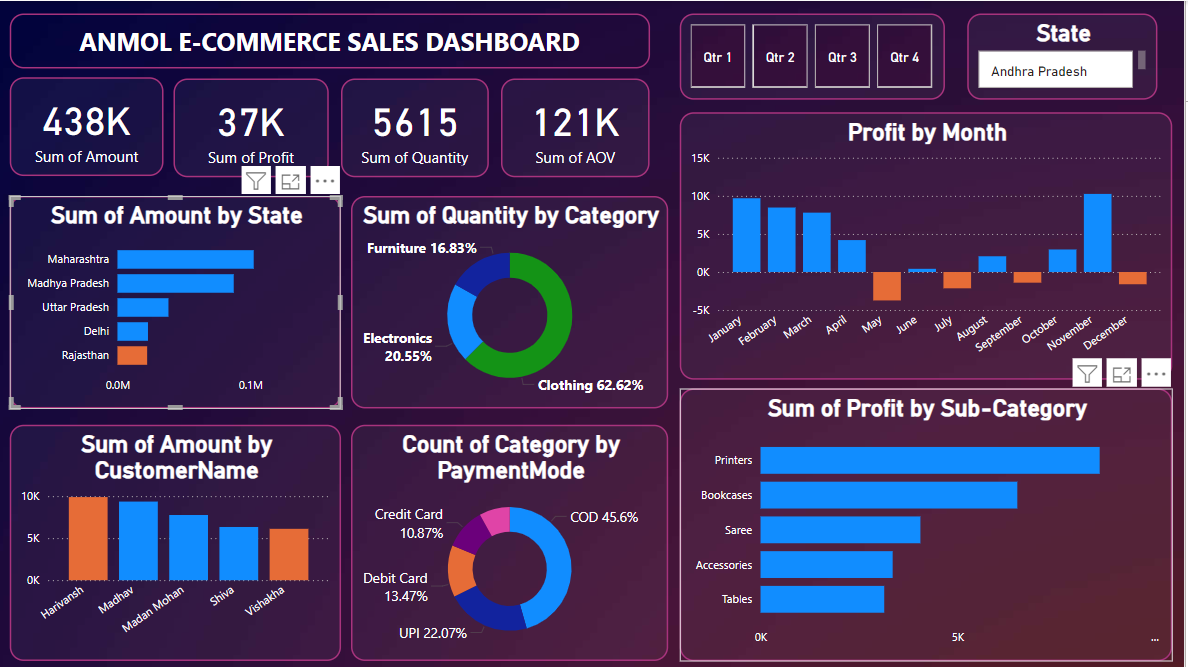

What the dashboard file says about the page in this screenshot:
{"tool":"powerbi","page":{"name":"Page 1","canvas":[1280,720],"ordinal":0},"visuals":[{"type":"columnChart","title":"Profit by Month","fields":{"Category":["Orders.Order Date.Variation.Date Hierarchy.Month"],"Y":["Details.Profit"]},"box":[736.4,119.8,530.4,288.1],"z":0},{"type":"textbox","box":[14.8,13.5,689.3,59.2],"z":1000},{"type":"barChart","fields":{"Y":["Details.Profit"],"Category":["Details.Sub-Category"]},"box":[736.4,417.3,530.4,293.5],"z":2000},{"type":"donutChart","fields":{"Category":["Details.Category"],"Y":["Details.Quantity"]},"box":[382.3,210,341.9,228.9],"z":3000},{"type":"donutChart","fields":{"Category":["Details.PaymentMode"],"Y":["Details.Category"]},"box":[382.3,456.4,341.9,254.4],"z":4000},{"type":"card","fields":{"Values":["Details.Amount"]},"box":[14.8,82.1,165.6,106.4],"z":5000},{"type":"card","fields":{"Values":["Details.Profit"]},"box":[191.2,83.5,166.9,106.4],"z":6000},{"type":"card","fields":{"Values":["Details.Quantity"]},"box":[371.6,83.5,158.9,106.4],"z":7000},{"type":"card","fields":{"Values":["Details.AOV"]},"box":[543.9,83.5,160.2,106.4],"z":8000},{"type":"barChart","fields":{"Category":["Orders.State"],"Y":["Details.Amount"]},"box":[14.8,210,356.8,228.9],"z":9000},{"type":"columnChart","fields":{"Y":["Details.Amount"],"Category":["Orders.CustomerName"]},"box":[14.8,456.4,356.8,254.4],"z":10000},{"type":"advancedSlicerVisual","fields":{"Values":["Orders.Order Date.Variation.Date Hierarchy.Quarter"]},"box":[736.4,13.5,285.4,92.9],"z":11000},{"type":"advancedSlicerVisual","fields":{"Values":["Orders.State"]},"box":[1046,13.5,204.6,92.9],"z":12000}]}

Visuals, with their boxes in screenshot pixels (x1, y1, x2, y2), scaled from the page's 1280x720 canvas onto the 1188x667 screenshot:
"Profit by Month" columnChart: (683,111,1176,378)
textbox: (14,13,653,67)
barChart - Details.Profit x Details.Sub-Category: (683,387,1176,658)
donutChart - Details.Category x Details.Quantity: (355,195,672,407)
donutChart - Details.PaymentMode x Details.Category: (355,423,672,658)
card - Details.Amount: (14,76,167,175)
card - Details.Profit: (177,77,332,176)
card - Details.Quantity: (345,77,492,176)
card - Details.AOV: (505,77,653,176)
barChart - Orders.State x Details.Amount: (14,195,345,407)
columnChart - Details.Amount x Orders.CustomerName: (14,423,345,658)
advancedSlicerVisual - Orders.Order Date.Variation.Date Hierarchy.Quarter: (683,13,948,99)
advancedSlicerVisual - Orders.State: (971,13,1161,99)
